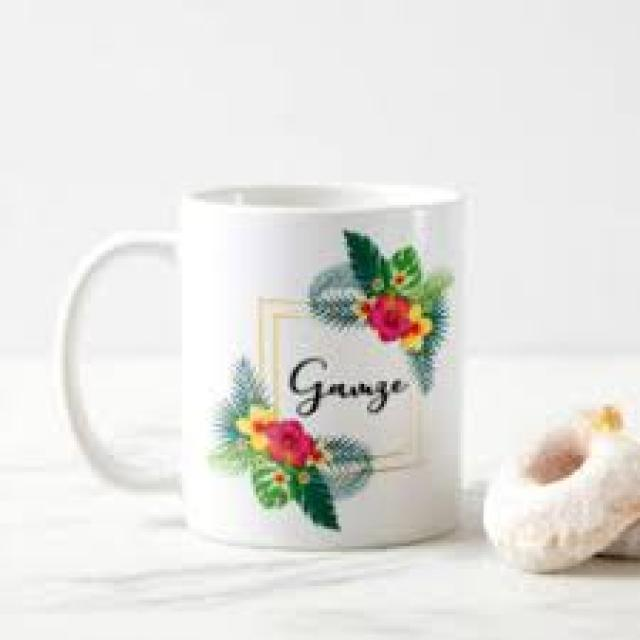taza: (52, 183, 465, 550)
